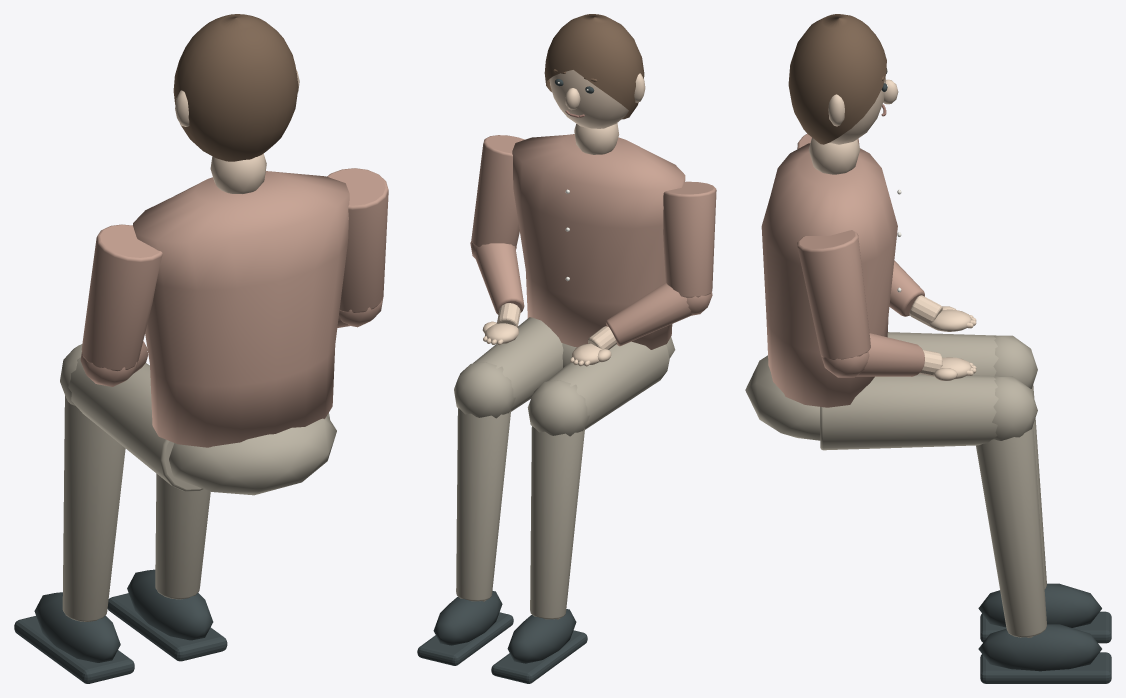
The model's file is GuestClay.fbx.
3 views of the same model, side by side, from view 1: azimuth 30°, elevation 25°; view 2: azimuth 150°, elevation 25°; view 3: azimuth 270°, elevation 25° (orthographic). The views are drawn at different scales.
Parts seen in each view (by area): view 1: Tailored shirt, Shaped bob hair, Trousers lower leg, Shirt upper sleeve, Pelvis trousers, Trousers upper leg, Shirt upper sleeve.001, Trousers lower leg.001, Shoe upper, Shoe upper.001, Shoe sole, Shoe sole.001 (+3 smaller); view 2: Tailored shirt, Trousers lower leg.001, Trousers lower leg, Shaped bob hair, Shirt upper sleeve, Trousers upper leg, Shirt upper sleeve.001, Trousers upper leg.001, Shirt fore sleeve, Bent knee, Bent knee.001, Adult head (+7 smaller); view 3: Tailored shirt, Trousers upper leg.001, Trousers lower leg.001, Shaped bob hair, Shirt upper sleeve.001, Shoe upper.001, Pelvis trousers, Shoe upper, Shoe sole.001, Trousers upper leg, Bent knee.001, Shirt fore sleeve.001 (+9 smaller).
Part boxes in pixels (left/top/right/bottom): Tailored shirt: left=133, top=171, right=349, bottom=447; Shaped bob hair: left=173, top=14, right=298, bottom=161; Trousers lower leg: left=62, top=395, right=125, bottom=621; Shirt upper sleeve: left=81, top=224, right=162, bottom=371; Pelvis trousers: left=169, top=415, right=336, bottom=495; Trousers upper leg: left=68, top=357, right=203, bottom=491; Shirt upper sleeve.001: left=327, top=168, right=388, bottom=312; Trousers lower leg.001: left=155, top=473, right=210, bottom=599; Shoe upper: left=34, top=592, right=120, bottom=662; Shoe upper.001: left=127, top=569, right=213, bottom=640; Shoe sole: left=14, top=616, right=134, bottom=683; Shoe sole.001: left=107, top=593, right=227, bottom=661; Tailored shirt: left=512, top=134, right=685, bottom=349; Trousers lower leg.001: left=456, top=408, right=511, bottom=601; Trousers lower leg: left=530, top=426, right=584, bottom=619; Shaped bob hair: left=544, top=14, right=644, bottom=119; Shirt upper sleeve: left=663, top=181, right=716, bottom=297; Trousers upper leg: left=546, top=341, right=669, bottom=429; Shirt upper sleeve.001: left=471, top=135, right=524, bottom=248; Trousers upper leg.001: left=473, top=317, right=563, bottom=411; Shirt fore sleeve: left=606, top=283, right=691, bottom=346; Bent knee: left=527, top=380, right=589, bottom=436; Bent knee.001: left=454, top=362, right=515, bottom=418; Adult head: left=549, top=70, right=628, bottom=128; Tailored shirt: left=761, top=143, right=897, bottom=407; Trousers upper leg.001: left=820, top=374, right=998, bottom=450; Trousers lower leg.001: left=976, top=425, right=1046, bottom=637; Shaped bob hair: left=788, top=14, right=886, bottom=144; Shirt upper sleeve.001: left=797, top=230, right=870, bottom=360; Shoe upper.001: left=978, top=624, right=1101, bottom=671; Pelvis trousers: left=745, top=355, right=820, bottom=440; Shoe upper: left=978, top=583, right=1101, bottom=627; Shoe sole.001: left=980, top=652, right=1111, bottom=683; Trousers upper leg: left=887, top=332, right=998, bottom=375; Bent knee.001: left=992, top=376, right=1037, bottom=440; Shirt fore sleeve.001: left=856, top=333, right=924, bottom=376.
Bounding box in the file's own units: 64.84 × 149 × 78.
